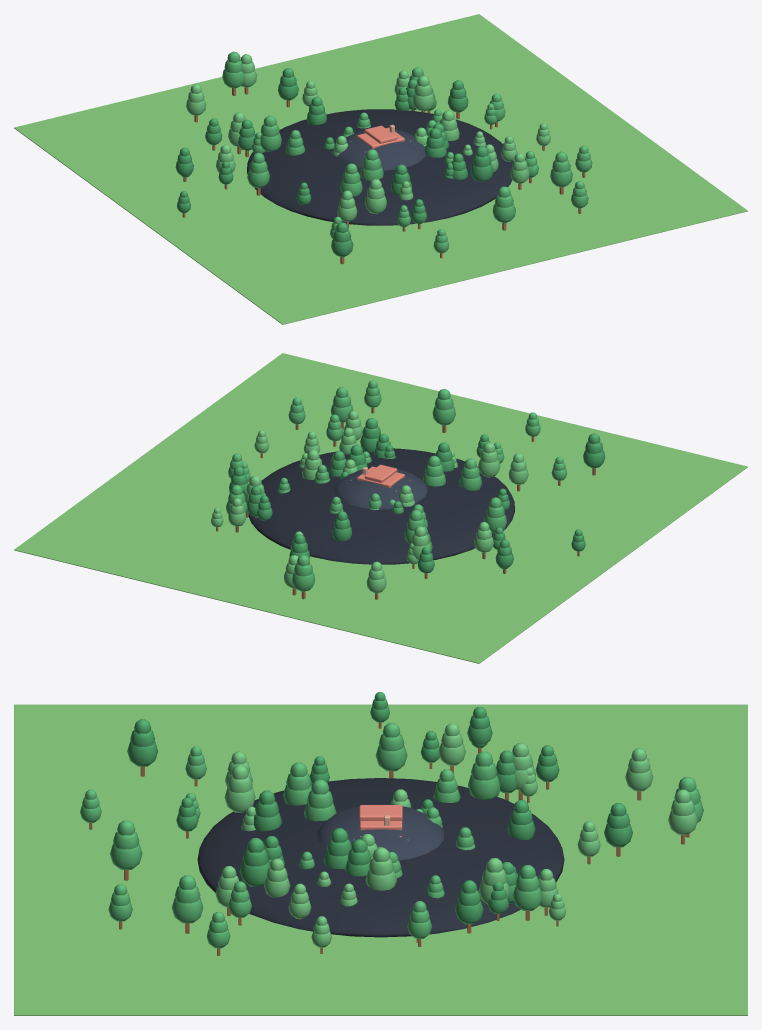
Rendered from sets.glb.
The picture shows the model from 3 angles, top to bottom: view 1: azimuth 30°, elevation 25°; view 2: azimuth 150°, elevation 25°; view 3: azimuth 270°, elevation 25°; orthographic projection. The views are drawn at different scales.
Visible parts, largest first — view 1: Forest, Mothership, House; view 2: Forest, Mothership, House; view 3: Forest, Mothership, House.
Part boxes in pixels (x1,y1,x2,y2): Forest: (14,14,747,324); Mothership: (247,109,513,225); House: (351,124,410,152); Forest: (14,353,747,663); Mothership: (248,448,514,564); House: (351,464,410,491); Forest: (14,692,747,1015); Mothership: (197,778,564,937); House: (359,805,402,837).
Size of the model in its own units: 240 by 31.95 by 240.
